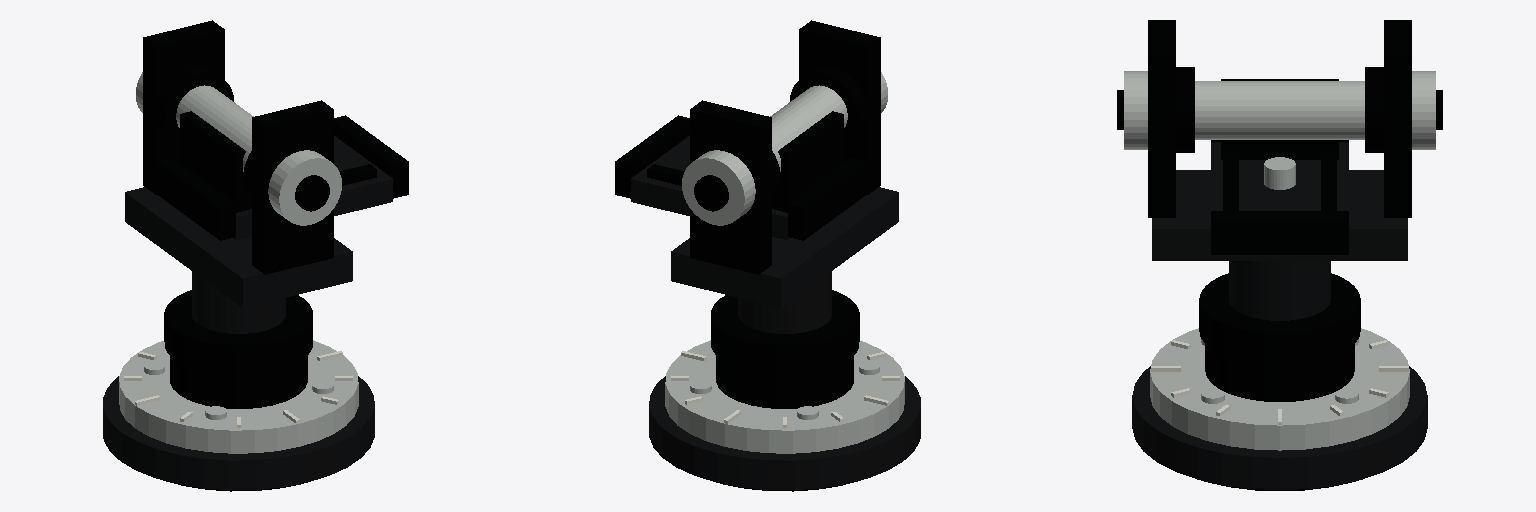
URDF robot description (compact_camera_gimbal_head):
<robot name="compact_camera_gimbal_head">
  <link name="base">
    <visual name="base_foot">
      <origin xyz="0 0 0.009" rpy="0 0 0" />
      <geometry>
        <cylinder radius="0.075" length="0.018" />
        </geometry>
      <material name="charcoal_cast_aluminum">
        <color rgba="0.09 0.095 0.1 1" />
        </material>
      </visual>
    <visual name="yaw_scale_ring">
      <origin xyz="0 0 0.025" rpy="0 0 0" />
      <geometry>
        <cylinder radius="0.066" length="0.014" />
        </geometry>
      <material name="brushed_steel">
        <color rgba="0.7 0.72 0.7 1" />
        </material>
      </visual>
    <visual name="bearing_sleeve">
      <origin xyz="0 0 0.043" rpy="0 0 0" />
      <geometry>
        <cylinder radius="0.038" length="0.022" />
        </geometry>
      <material name="matte_black_anodized">
        <color rgba="0.015 0.016 0.018 1" />
        </material>
      </visual>
    <visual name="rubber_pad">
      <origin xyz="0 0 -0.002" rpy="0 0 0" />
      <geometry>
        <cylinder radius="0.068" length="0.004" />
        </geometry>
      <material name="black_rubber">
        <color rgba="0.004 0.004 0.004 1" />
        </material>
      </visual>
    <visual name="yaw_tick_0">
      <origin xyz="0.058 0 0.033" rpy="0 0 0" />
      <geometry>
        <box size="0.015 0.0025 0.002" />
        </geometry>
      <material name="engraved_white_mark">
        <color rgba="0.86 0.86 0.82 1" />
        </material>
      </visual>
    <visual name="yaw_tick_1">
      <origin xyz="0.0502295 0.029 0.033" rpy="0 0 0.523599" />
      <geometry>
        <box size="0.01 0.0025 0.002" />
        </geometry>
      <material name="engraved_white_mark">
        <color rgba="0.86 0.86 0.82 1" />
        </material>
      </visual>
    <visual name="yaw_tick_2">
      <origin xyz="0.029 0.0502295 0.033" rpy="0 0 1.0472" />
      <geometry>
        <box size="0.01 0.0025 0.002" />
        </geometry>
      <material name="engraved_white_mark">
        <color rgba="0.86 0.86 0.82 1" />
        </material>
      </visual>
    <visual name="yaw_tick_3">
      <origin xyz="3.55148e-18 0.058 0.033" rpy="0 0 1.5708" />
      <geometry>
        <box size="0.015 0.0025 0.002" />
        </geometry>
      <material name="engraved_white_mark">
        <color rgba="0.86 0.86 0.82 1" />
        </material>
      </visual>
    <visual name="yaw_tick_4">
      <origin xyz="-0.029 0.0502295 0.033" rpy="0 0 2.0944" />
      <geometry>
        <box size="0.01 0.0025 0.002" />
        </geometry>
      <material name="engraved_white_mark">
        <color rgba="0.86 0.86 0.82 1" />
        </material>
      </visual>
    <visual name="yaw_tick_5">
      <origin xyz="-0.0502295 0.029 0.033" rpy="0 0 2.61799" />
      <geometry>
        <box size="0.01 0.0025 0.002" />
        </geometry>
      <material name="engraved_white_mark">
        <color rgba="0.86 0.86 0.82 1" />
        </material>
      </visual>
    <visual name="yaw_tick_6">
      <origin xyz="-0.058 7.10295e-18 0.033" rpy="0 0 3.14159" />
      <geometry>
        <box size="0.015 0.0025 0.002" />
        </geometry>
      <material name="engraved_white_mark">
        <color rgba="0.86 0.86 0.82 1" />
        </material>
      </visual>
    <visual name="yaw_tick_7">
      <origin xyz="-0.0502295 -0.029 0.033" rpy="0 0 3.66519" />
      <geometry>
        <box size="0.01 0.0025 0.002" />
        </geometry>
      <material name="engraved_white_mark">
        <color rgba="0.86 0.86 0.82 1" />
        </material>
      </visual>
    <visual name="yaw_tick_8">
      <origin xyz="-0.029 -0.0502295 0.033" rpy="0 0 4.18879" />
      <geometry>
        <box size="0.01 0.0025 0.002" />
        </geometry>
      <material name="engraved_white_mark">
        <color rgba="0.86 0.86 0.82 1" />
        </material>
      </visual>
    <visual name="yaw_tick_9">
      <origin xyz="-1.06544e-17 -0.058 0.033" rpy="0 0 4.71239" />
      <geometry>
        <box size="0.015 0.0025 0.002" />
        </geometry>
      <material name="engraved_white_mark">
        <color rgba="0.86 0.86 0.82 1" />
        </material>
      </visual>
    <visual name="yaw_tick_10">
      <origin xyz="0.029 -0.0502295 0.033" rpy="0 0 5.23599" />
      <geometry>
        <box size="0.01 0.0025 0.002" />
        </geometry>
      <material name="engraved_white_mark">
        <color rgba="0.86 0.86 0.82 1" />
        </material>
      </visual>
    <visual name="yaw_tick_11">
      <origin xyz="0.0502295 -0.029 0.033" rpy="0 0 5.75959" />
      <geometry>
        <box size="0.01 0.0025 0.002" />
        </geometry>
      <material name="engraved_white_mark">
        <color rgba="0.86 0.86 0.82 1" />
        </material>
      </visual>
    <visual name="socket_screw_0">
      <origin xyz="0.0339411 0.0339411 0.0335" rpy="0 0 0" />
      <geometry>
        <cylinder radius="0.006" length="0.003" />
        </geometry>
      <material name="brushed_steel">
        <color rgba="0.7 0.72 0.7 1" />
        </material>
      </visual>
    <visual name="socket_screw_1">
      <origin xyz="-0.0339411 0.0339411 0.0335" rpy="0 0 0" />
      <geometry>
        <cylinder radius="0.006" length="0.003" />
        </geometry>
      <material name="brushed_steel">
        <color rgba="0.7 0.72 0.7 1" />
        </material>
      </visual>
    <visual name="socket_screw_2">
      <origin xyz="-0.0339411 -0.0339411 0.0335" rpy="0 0 0" />
      <geometry>
        <cylinder radius="0.006" length="0.003" />
        </geometry>
      <material name="brushed_steel">
        <color rgba="0.7 0.72 0.7 1" />
        </material>
      </visual>
    <visual name="socket_screw_3">
      <origin xyz="0.0339411 -0.0339411 0.0335" rpy="0 0 0" />
      <geometry>
        <cylinder radius="0.006" length="0.003" />
        </geometry>
      <material name="brushed_steel">
        <color rgba="0.7 0.72 0.7 1" />
        </material>
      </visual>
    <collision name="base_foot">
      <origin xyz="0 0 0.009" rpy="0 0 0" />
      <geometry>
        <cylinder radius="0.075" length="0.018" />
        </geometry>
      </collision>
    <collision name="yaw_scale_ring">
      <origin xyz="0 0 0.025" rpy="0 0 0" />
      <geometry>
        <cylinder radius="0.066" length="0.014" />
        </geometry>
      </collision>
    <collision name="bearing_sleeve">
      <origin xyz="0 0 0.043" rpy="0 0 0" />
      <geometry>
        <cylinder radius="0.038" length="0.022" />
        </geometry>
      </collision>
    <collision name="rubber_pad">
      <origin xyz="0 0 -0.002" rpy="0 0 0" />
      <geometry>
        <cylinder radius="0.068" length="0.004" />
        </geometry>
      </collision>
    <collision name="yaw_tick_0">
      <origin xyz="0.058 0 0.033" rpy="0 0 0" />
      <geometry>
        <box size="0.015 0.0025 0.002" />
        </geometry>
      </collision>
    <collision name="yaw_tick_1">
      <origin xyz="0.0502295 0.029 0.033" rpy="0 0 0.523599" />
      <geometry>
        <box size="0.01 0.0025 0.002" />
        </geometry>
      </collision>
    <collision name="yaw_tick_2">
      <origin xyz="0.029 0.0502295 0.033" rpy="0 0 1.0472" />
      <geometry>
        <box size="0.01 0.0025 0.002" />
        </geometry>
      </collision>
    <collision name="yaw_tick_3">
      <origin xyz="3.55148e-18 0.058 0.033" rpy="0 0 1.5708" />
      <geometry>
        <box size="0.015 0.0025 0.002" />
        </geometry>
      </collision>
    <collision name="yaw_tick_4">
      <origin xyz="-0.029 0.0502295 0.033" rpy="0 0 2.0944" />
      <geometry>
        <box size="0.01 0.0025 0.002" />
        </geometry>
      </collision>
    <collision name="yaw_tick_5">
      <origin xyz="-0.0502295 0.029 0.033" rpy="0 0 2.61799" />
      <geometry>
        <box size="0.01 0.0025 0.002" />
        </geometry>
      </collision>
    <collision name="yaw_tick_6">
      <origin xyz="-0.058 7.10295e-18 0.033" rpy="0 0 3.14159" />
      <geometry>
        <box size="0.015 0.0025 0.002" />
        </geometry>
      </collision>
    <collision name="yaw_tick_7">
      <origin xyz="-0.0502295 -0.029 0.033" rpy="0 0 3.66519" />
      <geometry>
        <box size="0.01 0.0025 0.002" />
        </geometry>
      </collision>
    <collision name="yaw_tick_8">
      <origin xyz="-0.029 -0.0502295 0.033" rpy="0 0 4.18879" />
      <geometry>
        <box size="0.01 0.0025 0.002" />
        </geometry>
      </collision>
    <collision name="yaw_tick_9">
      <origin xyz="-1.06544e-17 -0.058 0.033" rpy="0 0 4.71239" />
      <geometry>
        <box size="0.015 0.0025 0.002" />
        </geometry>
      </collision>
    <collision name="yaw_tick_10">
      <origin xyz="0.029 -0.0502295 0.033" rpy="0 0 5.23599" />
      <geometry>
        <box size="0.01 0.0025 0.002" />
        </geometry>
      </collision>
    <collision name="yaw_tick_11">
      <origin xyz="0.0502295 -0.029 0.033" rpy="0 0 5.75959" />
      <geometry>
        <box size="0.01 0.0025 0.002" />
        </geometry>
      </collision>
    <collision name="socket_screw_0">
      <origin xyz="0.0339411 0.0339411 0.0335" rpy="0 0 0" />
      <geometry>
        <cylinder radius="0.006" length="0.003" />
        </geometry>
      </collision>
    <collision name="socket_screw_1">
      <origin xyz="-0.0339411 0.0339411 0.0335" rpy="0 0 0" />
      <geometry>
        <cylinder radius="0.006" length="0.003" />
        </geometry>
      </collision>
    <collision name="socket_screw_2">
      <origin xyz="-0.0339411 -0.0339411 0.0335" rpy="0 0 0" />
      <geometry>
        <cylinder radius="0.006" length="0.003" />
        </geometry>
      </collision>
    <collision name="socket_screw_3">
      <origin xyz="0.0339411 -0.0339411 0.0335" rpy="0 0 0" />
      <geometry>
        <cylinder radius="0.006" length="0.003" />
        </geometry>
      </collision>
    </link>
  <link name="yaw_carriage">
    <visual name="yaw_cap">
      <origin xyz="0 0 0.009" rpy="0 0 0" />
      <geometry>
        <cylinder radius="0.041" length="0.018" />
        </geometry>
      <material name="matte_black_anodized">
        <color rgba="0.015 0.016 0.018 1" />
        </material>
      </visual>
    <visual name="central_column">
      <origin xyz="0 0 0.037" rpy="0 0 0" />
      <geometry>
        <cylinder radius="0.026" length="0.038" />
        </geometry>
      <material name="charcoal_cast_aluminum">
        <color rgba="0.09 0.095 0.1 1" />
        </material>
      </visual>
    <visual name="lower_bridge">
      <origin xyz="0 0 0.065" rpy="0 0 0" />
      <geometry>
        <box size="0.07 0.13 0.018" />
        </geometry>
      <material name="charcoal_cast_aluminum">
        <color rgba="0.09 0.095 0.1 1" />
        </material>
      </visual>
    <visual name="side_plate_0">
      <origin xyz="0 0.06 0.119" rpy="0 0 0" />
      <geometry>
        <box size="0.044 0.014 0.09" />
        </geometry>
      <material name="matte_black_anodized">
        <color rgba="0.015 0.016 0.018 1" />
        </material>
      </visual>
    <visual name="side_plate_1">
      <origin xyz="0 -0.06 0.119" rpy="0 0 0" />
      <geometry>
        <box size="0.044 0.014 0.09" />
        </geometry>
      <material name="matte_black_anodized">
        <color rgba="0.015 0.016 0.018 1" />
        </material>
      </visual>
    <visual name="pitch_bearing_0">
      <origin xyz="0 0.073 0.124" rpy="1.5708 0 0" />
      <geometry>
        <cylinder radius="0.02" length="0.012" />
        </geometry>
      <material name="brushed_steel">
        <color rgba="0.7 0.72 0.7 1" />
        </material>
      </visual>
    <visual name="pitch_bearing_1">
      <origin xyz="0 -0.073 0.124" rpy="1.5708 0 0" />
      <geometry>
        <cylinder radius="0.02" length="0.012" />
        </geometry>
      <material name="brushed_steel">
        <color rgba="0.7 0.72 0.7 1" />
        </material>
      </visual>
    <visual name="bearing_cap_0">
      <origin xyz="0 0.081 0.124" rpy="1.5708 0 0" />
      <geometry>
        <cylinder radius="0.01" length="0.004" />
        </geometry>
      <material name="matte_black_anodized">
        <color rgba="0.015 0.016 0.018 1" />
        </material>
      </visual>
    <visual name="bearing_cap_1">
      <origin xyz="0 -0.081 0.124" rpy="1.5708 0 0" />
      <geometry>
        <cylinder radius="0.01" length="0.004" />
        </geometry>
      <material name="matte_black_anodized">
        <color rgba="0.015 0.016 0.018 1" />
        </material>
      </visual>
    <collision name="yaw_cap">
      <origin xyz="0 0 0.009" rpy="0 0 0" />
      <geometry>
        <cylinder radius="0.041" length="0.018" />
        </geometry>
      </collision>
    <collision name="central_column">
      <origin xyz="0 0 0.037" rpy="0 0 0" />
      <geometry>
        <cylinder radius="0.026" length="0.038" />
        </geometry>
      </collision>
    <collision name="lower_bridge">
      <origin xyz="0 0 0.065" rpy="0 0 0" />
      <geometry>
        <box size="0.07 0.13 0.018" />
        </geometry>
      </collision>
    <collision name="side_plate_0">
      <origin xyz="0 0.06 0.119" rpy="0 0 0" />
      <geometry>
        <box size="0.044 0.014 0.09" />
        </geometry>
      </collision>
    <collision name="side_plate_1">
      <origin xyz="0 -0.06 0.119" rpy="0 0 0" />
      <geometry>
        <box size="0.044 0.014 0.09" />
        </geometry>
      </collision>
    <collision name="pitch_bearing_0">
      <origin xyz="0 0.073 0.124" rpy="1.5708 0 0" />
      <geometry>
        <cylinder radius="0.02" length="0.012" />
        </geometry>
      </collision>
    <collision name="pitch_bearing_1">
      <origin xyz="0 -0.073 0.124" rpy="1.5708 0 0" />
      <geometry>
        <cylinder radius="0.02" length="0.012" />
        </geometry>
      </collision>
    <collision name="bearing_cap_0">
      <origin xyz="0 0.081 0.124" rpy="1.5708 0 0" />
      <geometry>
        <cylinder radius="0.01" length="0.004" />
        </geometry>
      </collision>
    <collision name="bearing_cap_1">
      <origin xyz="0 -0.081 0.124" rpy="1.5708 0 0" />
      <geometry>
        <cylinder radius="0.01" length="0.004" />
        </geometry>
      </collision>
    </link>
  <link name="pitch_cradle">
    <visual name="pitch_axle">
      <origin xyz="0 0 0" rpy="1.5708 0 0" />
      <geometry>
        <cylinder radius="0.015" length="0.106" />
        </geometry>
      <material name="brushed_steel">
        <color rgba="0.7 0.72 0.7 1" />
        </material>
      </visual>
    <visual name="inner_hub_0">
      <origin xyz="0 0.048 0" rpy="1.5708 0 0" />
      <geometry>
        <cylinder radius="0.022" length="0.01" />
        </geometry>
      <material name="matte_black_anodized">
        <color rgba="0.015 0.016 0.018 1" />
        </material>
      </visual>
    <visual name="inner_hub_1">
      <origin xyz="0 -0.048 0" rpy="1.5708 0 0" />
      <geometry>
        <cylinder radius="0.022" length="0.01" />
        </geometry>
      <material name="matte_black_anodized">
        <color rgba="0.015 0.016 0.018 1" />
        </material>
      </visual>
    <visual name="tilt_web">
      <origin xyz="-0.01 0 -0.016" rpy="0 0 0" />
      <geometry>
        <box size="0.02 0.06 0.048" />
        </geometry>
      <material name="matte_black_anodized">
        <color rgba="0.015 0.016 0.018 1" />
        </material>
      </visual>
    <visual name="camera_plate">
      <origin xyz="0.028 0 -0.035" rpy="0 0 0" />
      <geometry>
        <box size="0.1 0.07 0.014" />
        </geometry>
      <material name="charcoal_cast_aluminum">
        <color rgba="0.09 0.095 0.1 1" />
        </material>
      </visual>
    <visual name="rear_lip">
      <origin xyz="-0.027 0 -0.03" rpy="0 0 0" />
      <geometry>
        <box size="0.01 0.07 0.02" />
        </geometry>
      <material name="matte_black_anodized">
        <color rgba="0.015 0.016 0.018 1" />
        </material>
      </visual>
    <visual name="front_lip">
      <origin xyz="0.083 0 -0.03" rpy="0 0 0" />
      <geometry>
        <box size="0.01 0.07 0.02" />
        </geometry>
      <material name="matte_black_anodized">
        <color rgba="0.015 0.016 0.018 1" />
        </material>
      </visual>
    <visual name="dovetail_rail_0">
      <origin xyz="0.03 0.025 -0.027" rpy="0 0 0" />
      <geometry>
        <box size="0.082 0.008 0.008" />
        </geometry>
      <material name="matte_black_anodized">
        <color rgba="0.015 0.016 0.018 1" />
        </material>
      </visual>
    <visual name="dovetail_rail_1">
      <origin xyz="0.03 -0.025 -0.027" rpy="0 0 0" />
      <geometry>
        <box size="0.082 0.008 0.008" />
        </geometry>
      <material name="matte_black_anodized">
        <color rgba="0.015 0.016 0.018 1" />
        </material>
      </visual>
    <visual name="camera_screw">
      <origin xyz="0.028 0 -0.0245" rpy="0 0 0" />
      <geometry>
        <cylinder radius="0.008" length="0.015" />
        </geometry>
      <material name="brushed_steel">
        <color rgba="0.7 0.72 0.7 1" />
        </material>
      </visual>
    <collision name="pitch_axle">
      <origin xyz="0 0 0" rpy="1.5708 0 0" />
      <geometry>
        <cylinder radius="0.015" length="0.106" />
        </geometry>
      </collision>
    <collision name="inner_hub_0">
      <origin xyz="0 0.048 0" rpy="1.5708 0 0" />
      <geometry>
        <cylinder radius="0.022" length="0.01" />
        </geometry>
      </collision>
    <collision name="inner_hub_1">
      <origin xyz="0 -0.048 0" rpy="1.5708 0 0" />
      <geometry>
        <cylinder radius="0.022" length="0.01" />
        </geometry>
      </collision>
    <collision name="tilt_web">
      <origin xyz="-0.01 0 -0.016" rpy="0 0 0" />
      <geometry>
        <box size="0.02 0.06 0.048" />
        </geometry>
      </collision>
    <collision name="camera_plate">
      <origin xyz="0.028 0 -0.035" rpy="0 0 0" />
      <geometry>
        <box size="0.1 0.07 0.014" />
        </geometry>
      </collision>
    <collision name="rear_lip">
      <origin xyz="-0.027 0 -0.03" rpy="0 0 0" />
      <geometry>
        <box size="0.01 0.07 0.02" />
        </geometry>
      </collision>
    <collision name="front_lip">
      <origin xyz="0.083 0 -0.03" rpy="0 0 0" />
      <geometry>
        <box size="0.01 0.07 0.02" />
        </geometry>
      </collision>
    <collision name="dovetail_rail_0">
      <origin xyz="0.03 0.025 -0.027" rpy="0 0 0" />
      <geometry>
        <box size="0.082 0.008 0.008" />
        </geometry>
      </collision>
    <collision name="dovetail_rail_1">
      <origin xyz="0.03 -0.025 -0.027" rpy="0 0 0" />
      <geometry>
        <box size="0.082 0.008 0.008" />
        </geometry>
      </collision>
    <collision name="camera_screw">
      <origin xyz="0.028 0 -0.0245" rpy="0 0 0" />
      <geometry>
        <cylinder radius="0.008" length="0.015" />
        </geometry>
      </collision>
    </link>
  <joint name="base_to_yaw" type="revolute">
    <origin xyz="0 0 0.054" rpy="0 0 0" />
    <parent link="base" />
    <child link="yaw_carriage" />
    <axis xyz="0 0 1" />
    <limit effort="6" velocity="2" lower="-3.14159" upper="3.14159" />
    </joint>
  <joint name="yaw_to_pitch" type="revolute">
    <origin xyz="0 0 0.124" rpy="0 0 0" />
    <parent link="yaw_carriage" />
    <child link="pitch_cradle" />
    <axis xyz="0 1 0" />
    <limit effort="4" velocity="1.5" lower="-1.2" upper="1.2" />
    </joint>
  </robot>

--- Render facts (derived) ---
Views: 3 orthographic renders of the robot side by side, from view 1: azimuth 30°, elevation 25°; view 2: azimuth 150°, elevation 25°; view 3: azimuth 270°, elevation 25°.
Robot: compact_camera_gimbal_head — 3 links, 2 joints (2 revolute); root link base; default pose: every joint at zero.
Links seen in each view (by area): view 1: yaw_carriage, base, pitch_cradle; view 2: yaw_carriage, base, pitch_cradle; view 3: yaw_carriage, base, pitch_cradle.
Link boxes in pixels (x1,y1,x2,y2): yaw_carriage: (125, 20, 352, 374); base: (103, 340, 374, 491); pitch_cradle: (156, 67, 408, 240); yaw_carriage: (671, 20, 898, 374); base: (649, 340, 920, 491); pitch_cradle: (615, 67, 867, 240); yaw_carriage: (1117, 20, 1442, 365); base: (1132, 328, 1427, 490); pitch_cradle: (1176, 67, 1383, 254).
Bounding box of the posed robot: 0.163 × 0.166 × 0.222 m (x, y, z).
Geometry: primitives only (box / cylinder / sphere), no mesh files.
